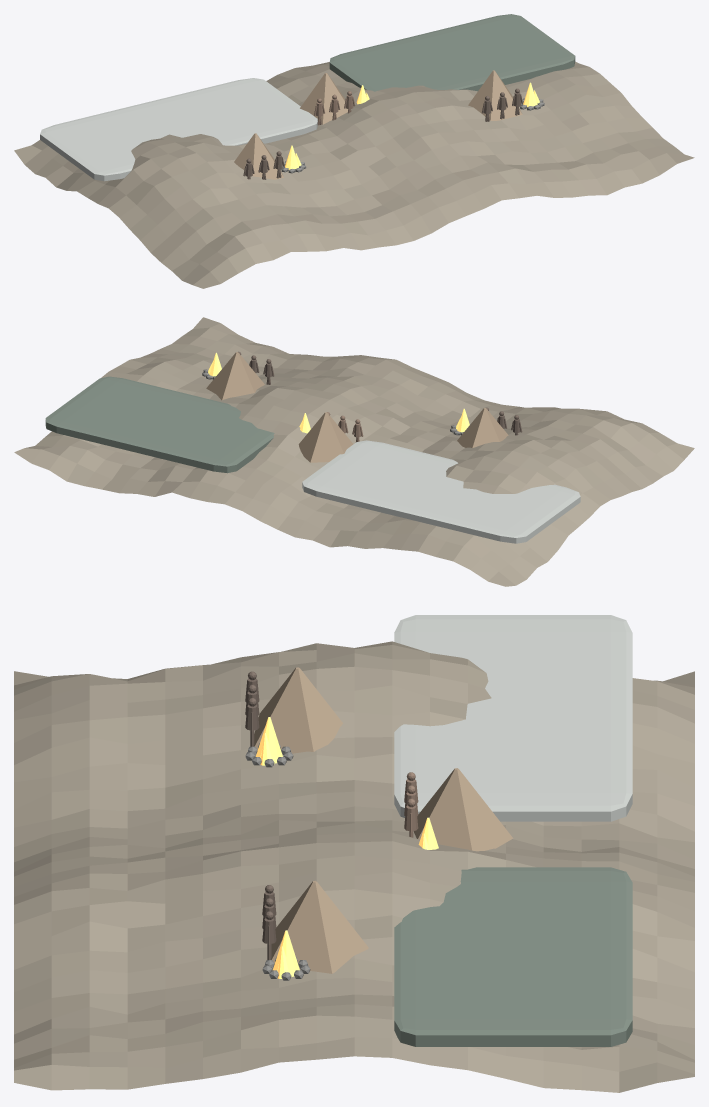
File: world-04-many-camps.glb
3 views of the same model, one above another, from view 1: azimuth 30°, elevation 25°; view 2: azimuth 150°, elevation 25°; view 3: azimuth 270°, elevation 25° (orthographic). The views are drawn at different scales.
Visible parts, largest first — view 1: BH_WORLD_04_Terrain.003, Cold_Steppe.003, Forest_Edge.003, BH_WORLD_04_Batch_03, BH_WORLD_04_Batch_06, BH_WORLD_04_Batch_05, BH_WORLD_04_Batch_07; view 2: BH_WORLD_04_Terrain.003, Cold_Steppe.003, Forest_Edge.003, BH_WORLD_04_Batch_03, BH_WORLD_04_Batch_06, BH_WORLD_04_Batch_05; view 3: BH_WORLD_04_Terrain.003, Forest_Edge.003, Cold_Steppe.003, BH_WORLD_04_Batch_03, BH_WORLD_04_Batch_05, BH_WORLD_04_Batch_06, BH_WORLD_04_Batch_04, BH_WORLD_04_Batch_07.
Boxes of the visible parts, bbox=[...] form: BH_WORLD_04_Terrain.003: bbox=[14, 61, 694, 288]; Cold_Steppe.003: bbox=[40, 78, 317, 181]; Forest_Edge.003: bbox=[329, 14, 575, 91]; BH_WORLD_04_Batch_03: bbox=[234, 70, 522, 179]; BH_WORLD_04_Batch_06: bbox=[243, 88, 522, 179]; BH_WORLD_04_Batch_05: bbox=[285, 82, 539, 169]; BH_WORLD_04_Batch_07: bbox=[314, 91, 355, 125]; BH_WORLD_04_Terrain.003: bbox=[14, 317, 694, 586]; Cold_Steppe.003: bbox=[302, 440, 580, 543]; Forest_Edge.003: bbox=[45, 376, 274, 473]; BH_WORLD_04_Batch_03: bbox=[206, 352, 508, 462]; BH_WORLD_04_Batch_06: bbox=[238, 351, 522, 435]; BH_WORLD_04_Batch_05: bbox=[208, 352, 469, 433]; BH_WORLD_04_Terrain.003: bbox=[14, 641, 694, 1092]; Forest_Edge.003: bbox=[394, 867, 632, 1046]; Cold_Steppe.003: bbox=[394, 615, 632, 821]; BH_WORLD_04_Batch_03: bbox=[253, 667, 513, 973]; BH_WORLD_04_Batch_05: bbox=[255, 717, 438, 978]; BH_WORLD_04_Batch_06: bbox=[245, 671, 276, 959]; BH_WORLD_04_Batch_04: bbox=[245, 743, 310, 980]; BH_WORLD_04_Batch_07: bbox=[404, 772, 418, 837].
Bounding box in the file's own units: 18 × 2.59 × 12.
